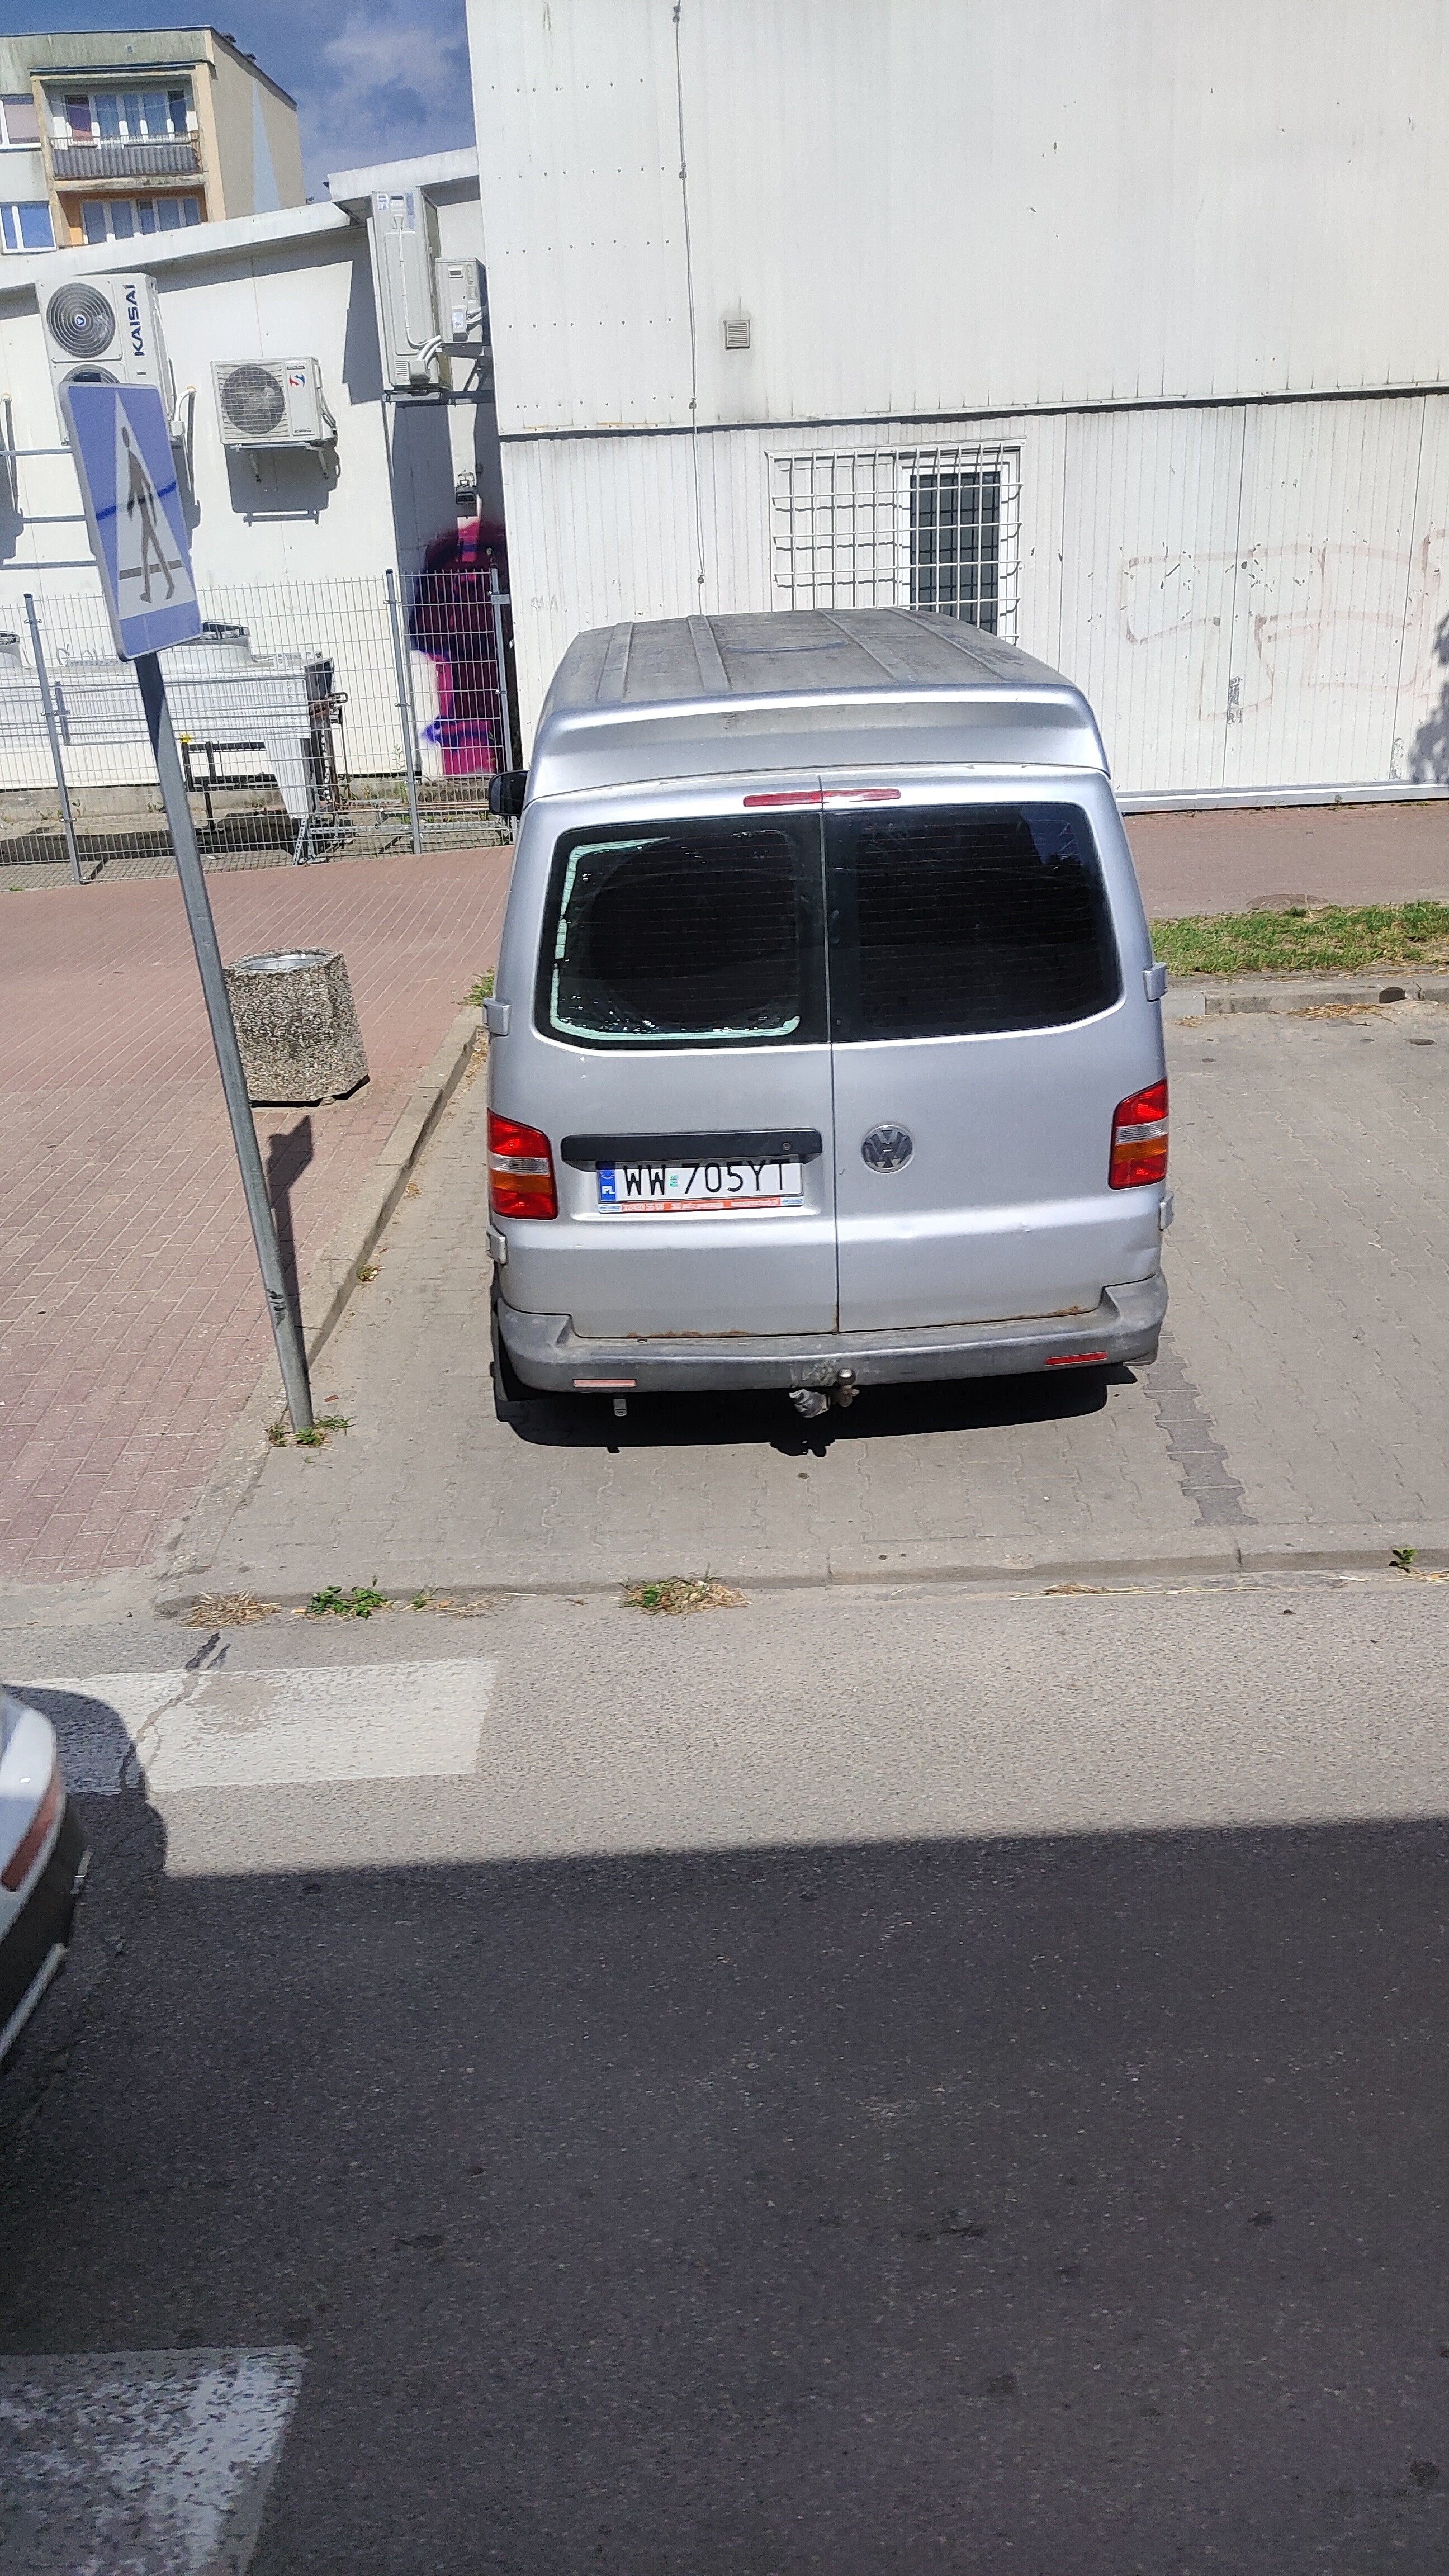number_plate: (597, 1154, 807, 1211)
